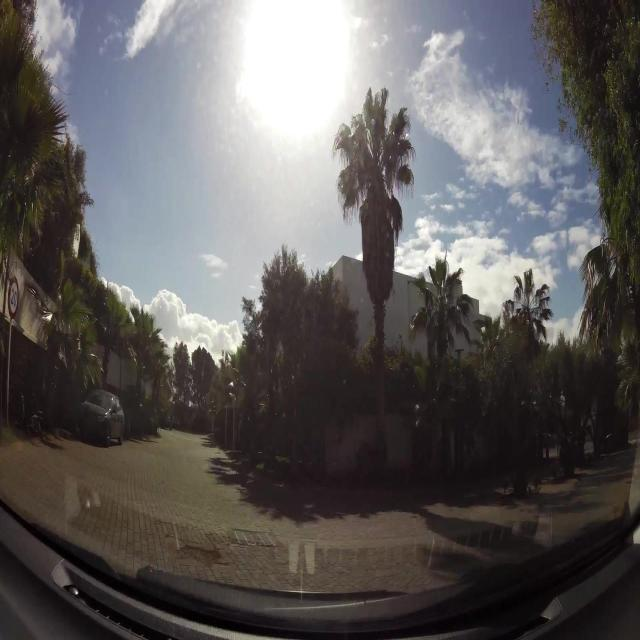car: (78, 389, 125, 446)
